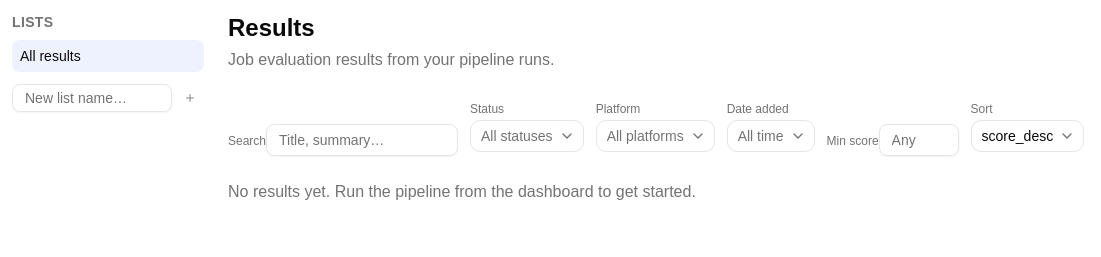
Test case: ResultsPage › shows empty state with filter message when filters active
Type "9" into the number field with placeholder "Any" at (919, 140), box [879,124,959,156]
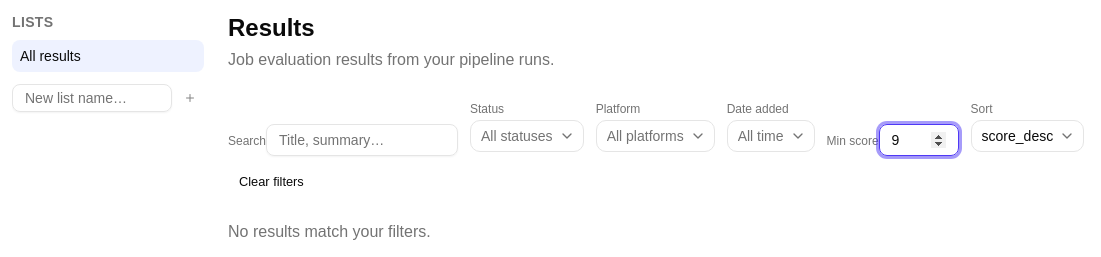
Result: the text "No results match your filters." is shown at [228,223,431,240]
